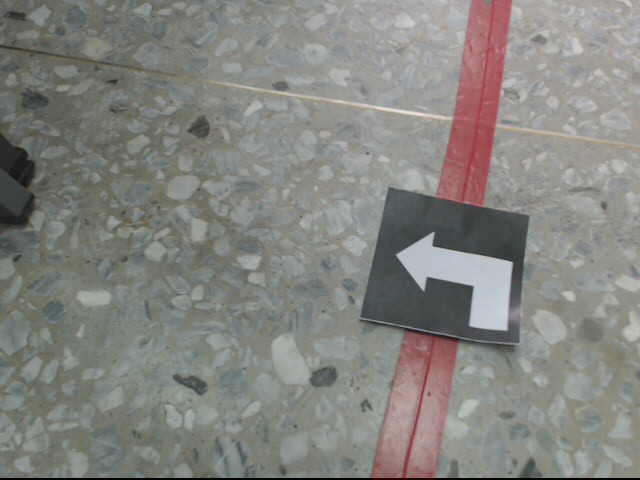left: (359, 186, 530, 349)
